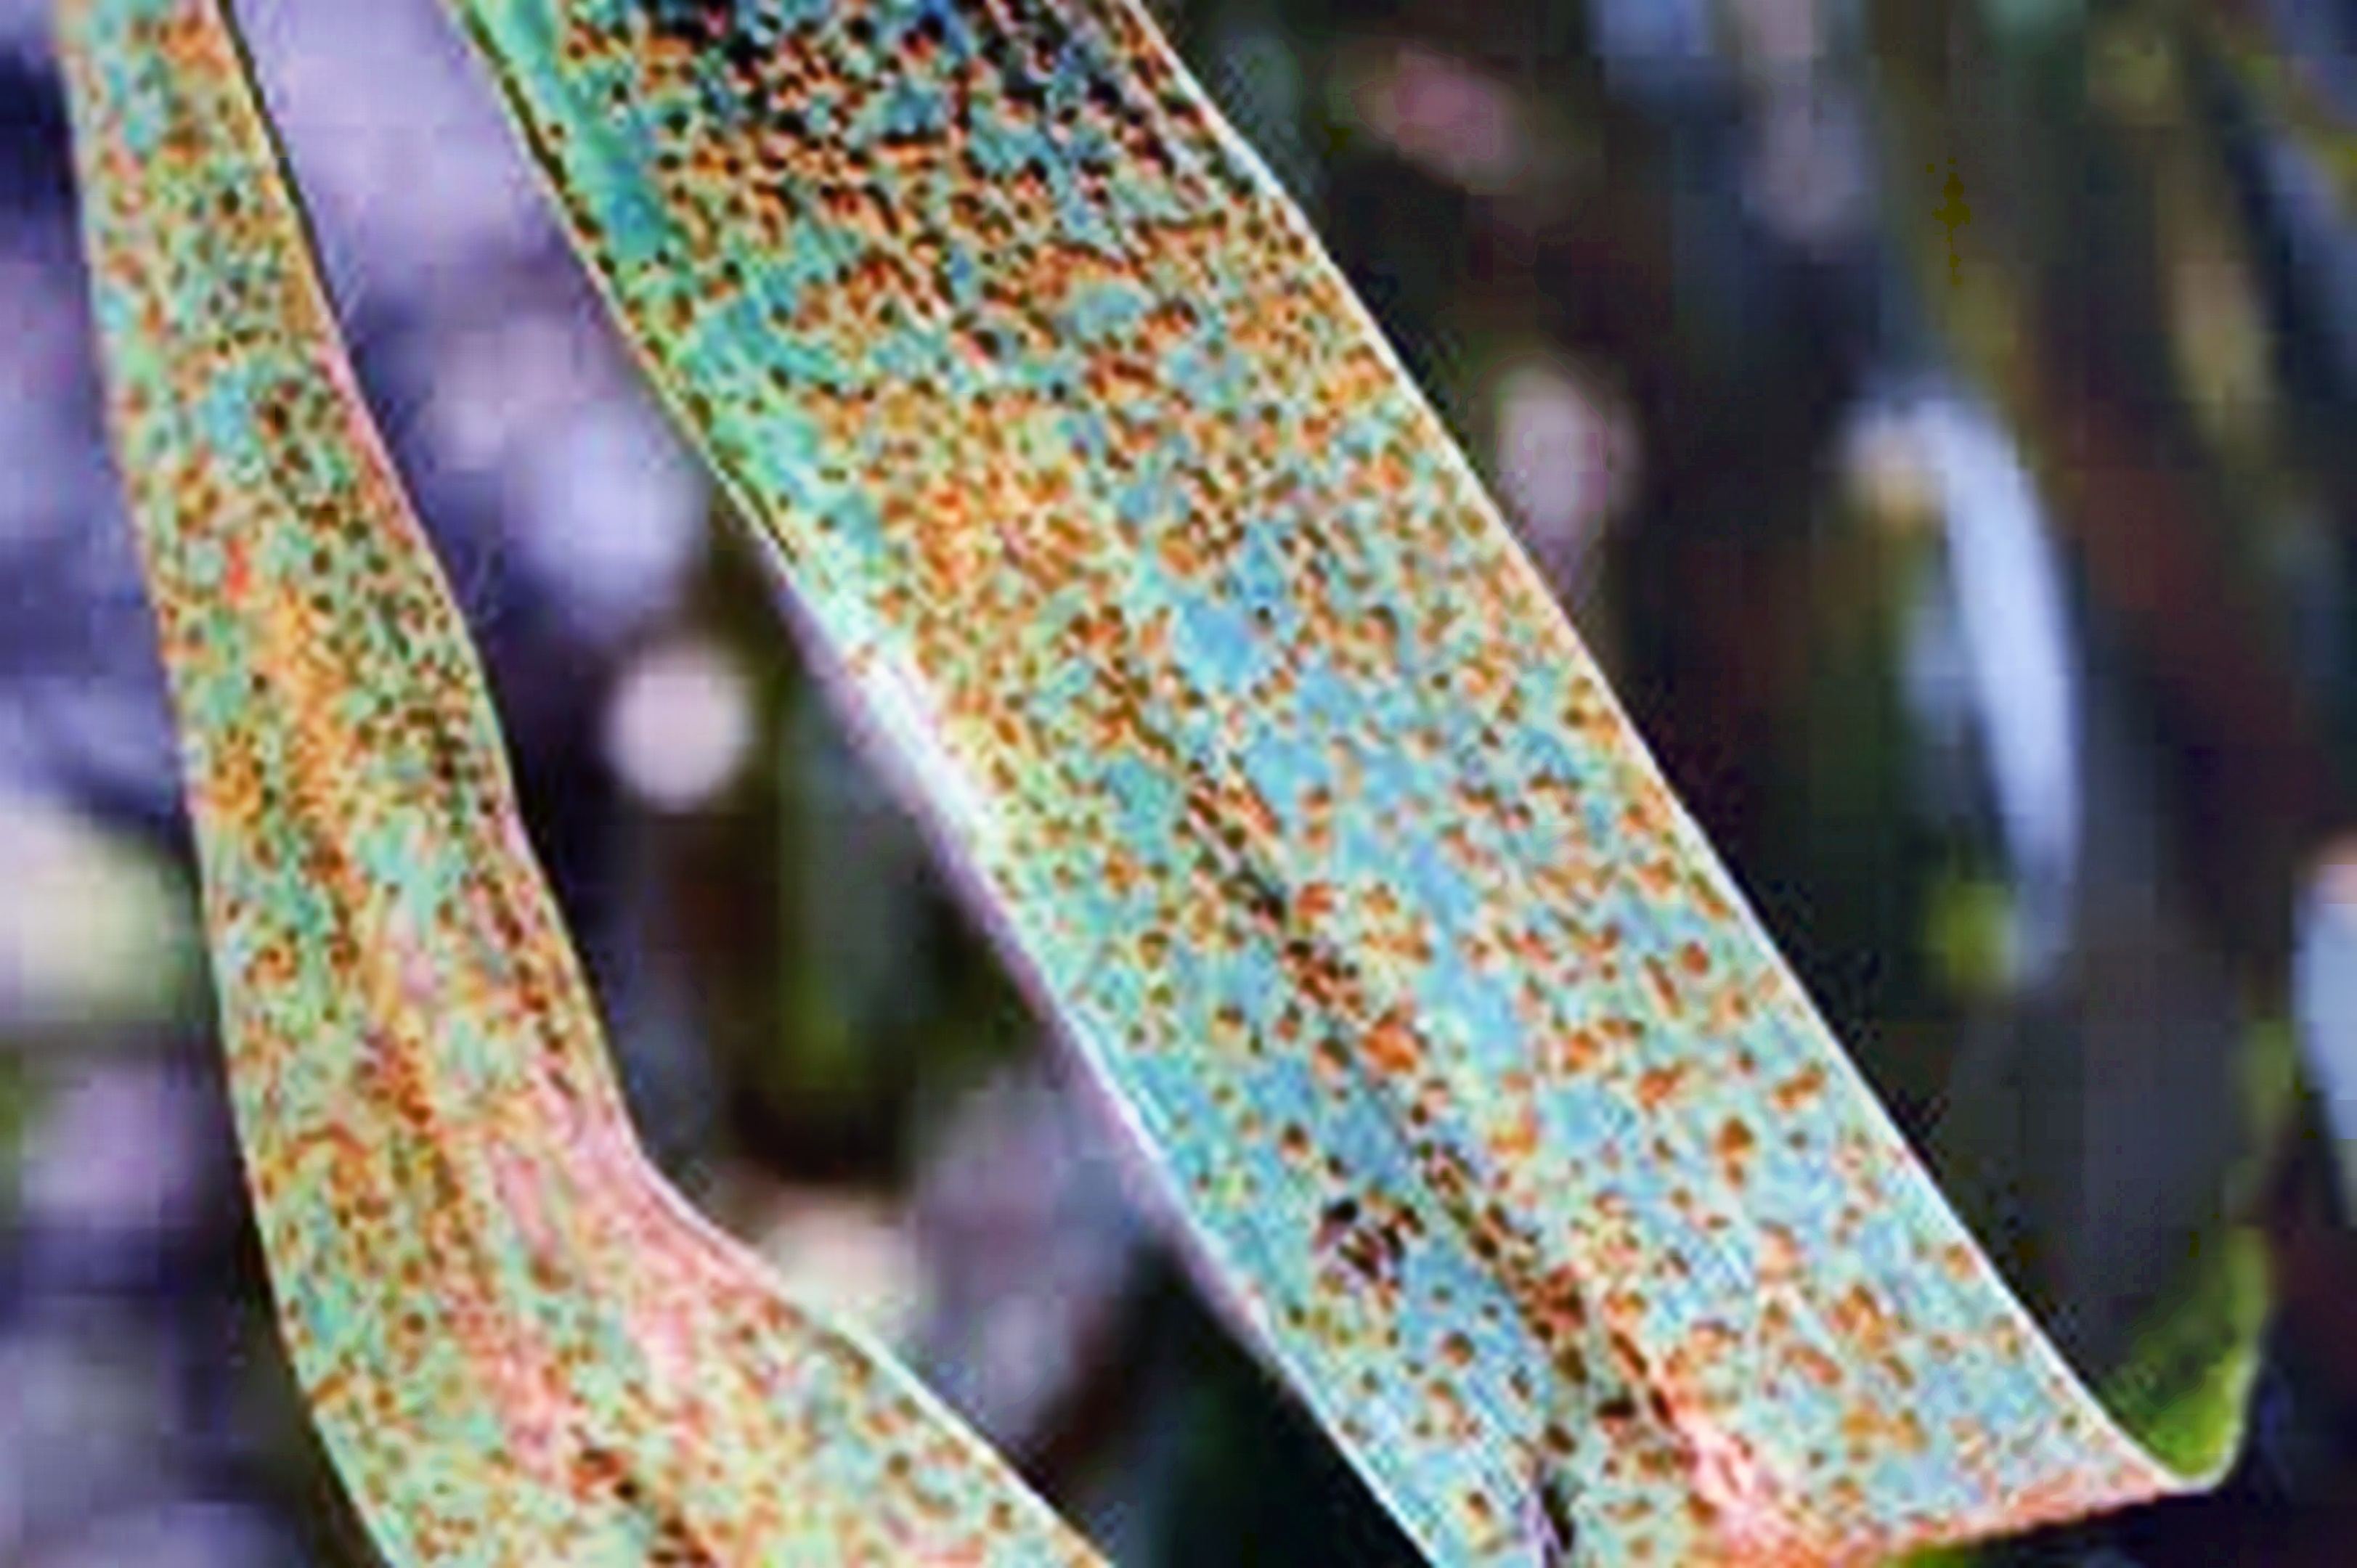Leaf Rust: (698, 84, 1872, 1433)
